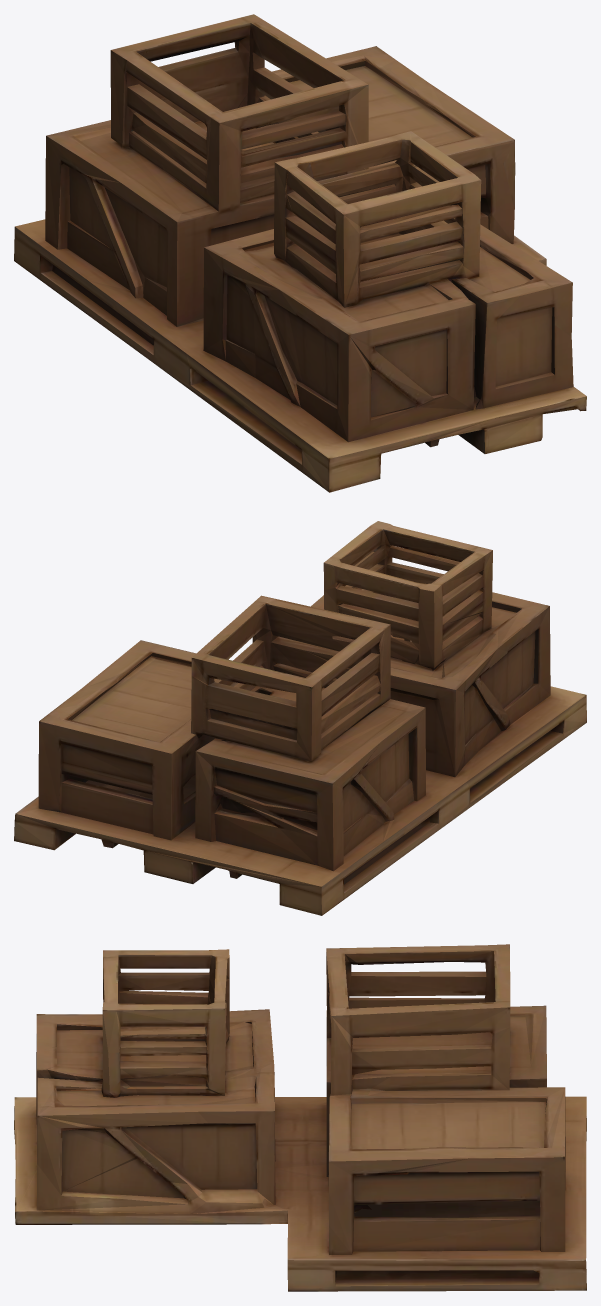
Rendered from crates.glb.
3 renders of one model, top to bottom at view 1: azimuth 30°, elevation 25°; view 2: azimuth 150°, elevation 25°; view 3: azimuth 270°, elevation 25°, orthographic. The views are drawn at different scales.
Visible parts, largest first — view 1: geometry_0; view 2: geometry_0; view 3: geometry_0.
Part boxes in pixels (left/top/right/bottom): geometry_0: left=14, top=14, right=586, bottom=492; geometry_0: left=14, top=521, right=586, bottom=915; geometry_0: left=14, top=944, right=586, bottom=1291.
Bounding box in the file's own units: 0.671 × 0.4016 × 0.9959.
1 material, 1 textured.
